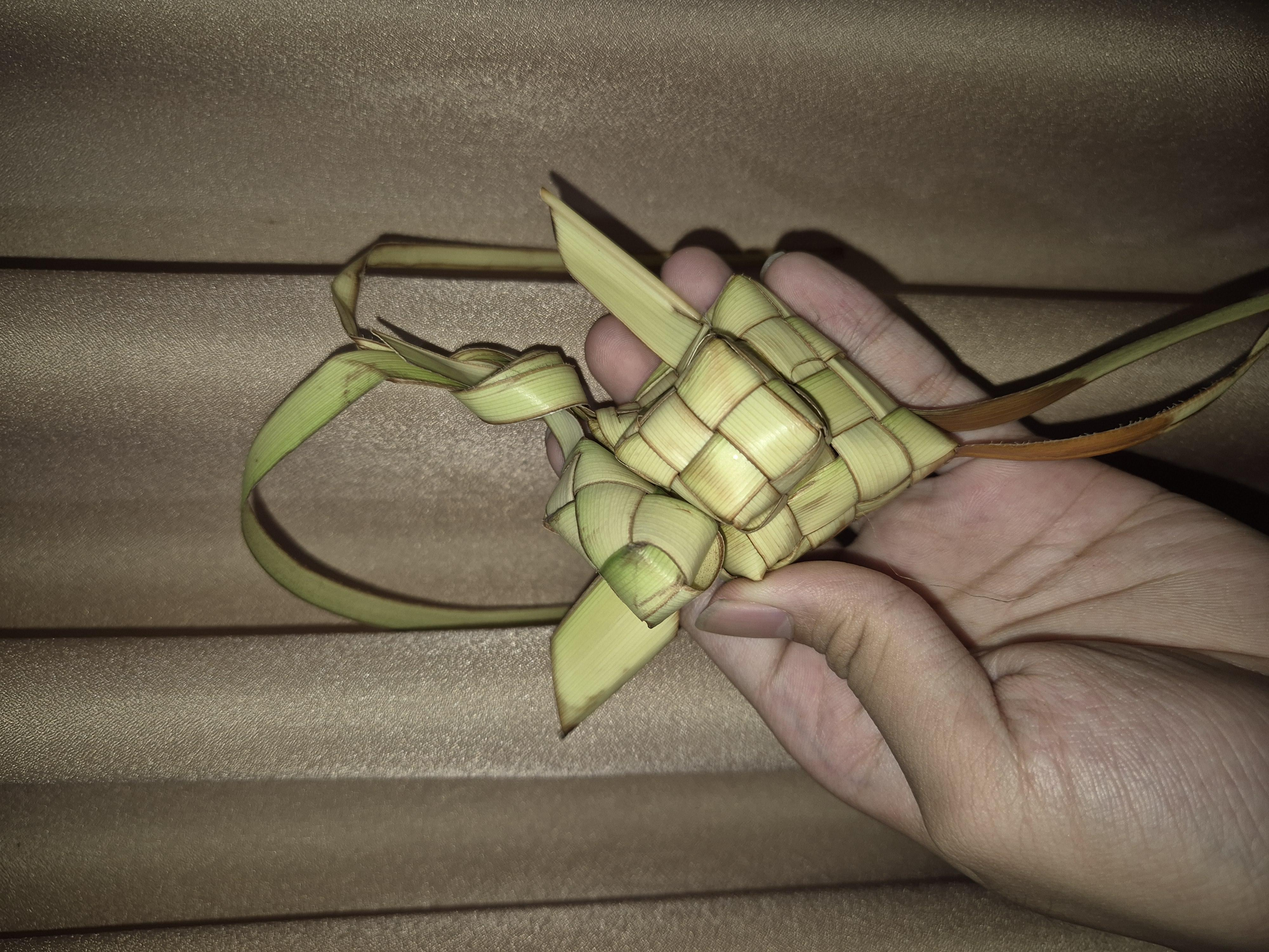Tipat Gong: (497, 443, 901, 718)
